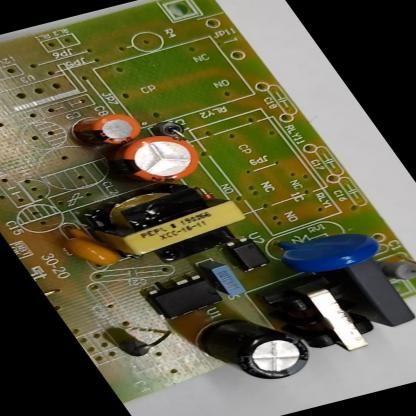Cap1: (105, 131, 208, 189)
Cap2: (67, 108, 146, 150)
Cap3: (190, 310, 321, 390)
MOSFET: (146, 274, 227, 318)
Mov: (277, 226, 386, 278)
Resistor: (381, 254, 415, 282)
Transformer: (71, 174, 258, 271), (273, 282, 386, 357)
